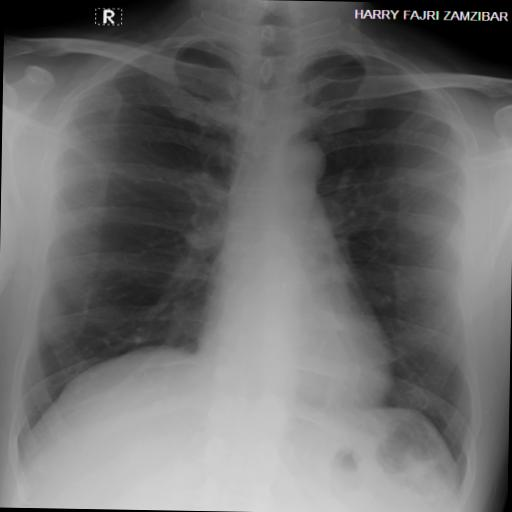normal: (8, 8, 512, 482)
